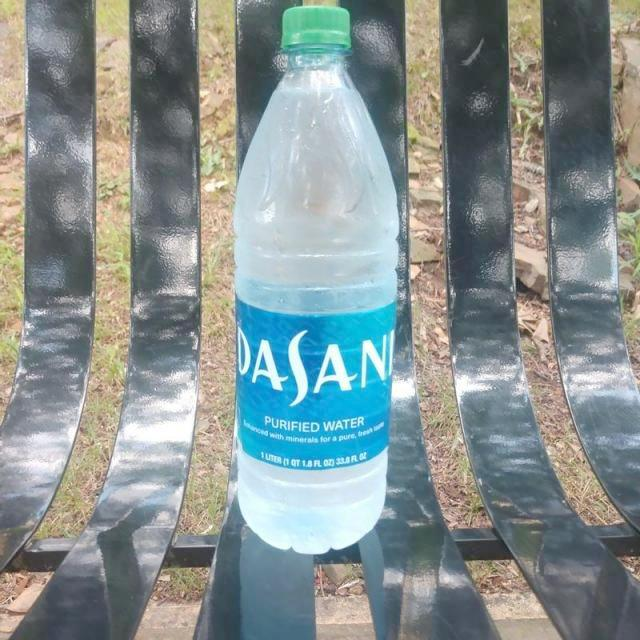bottle: (234, 7, 400, 554)
